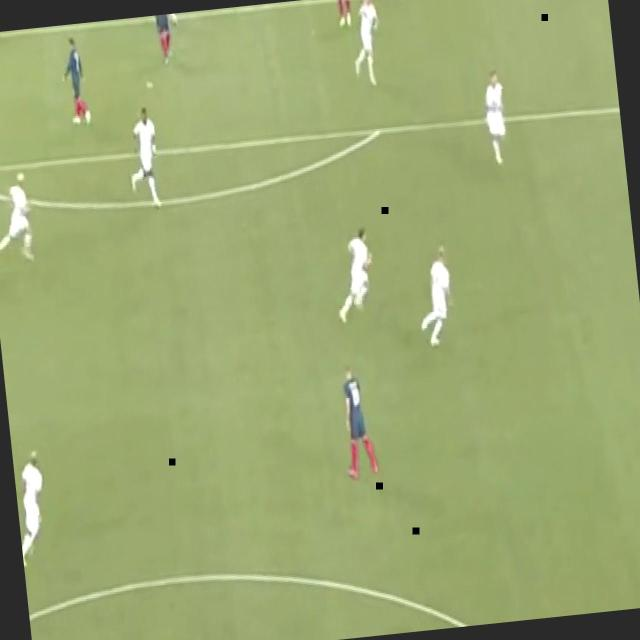player-white: (335, 362, 381, 482), (329, 224, 381, 328), (411, 242, 459, 351), (12, 448, 53, 568), (122, 105, 164, 213), (0, 169, 38, 268), (346, 0, 386, 91), (57, 34, 93, 132), (479, 69, 513, 169), (152, 14, 175, 67), (332, 0, 354, 27), (158, 13, 180, 31)
